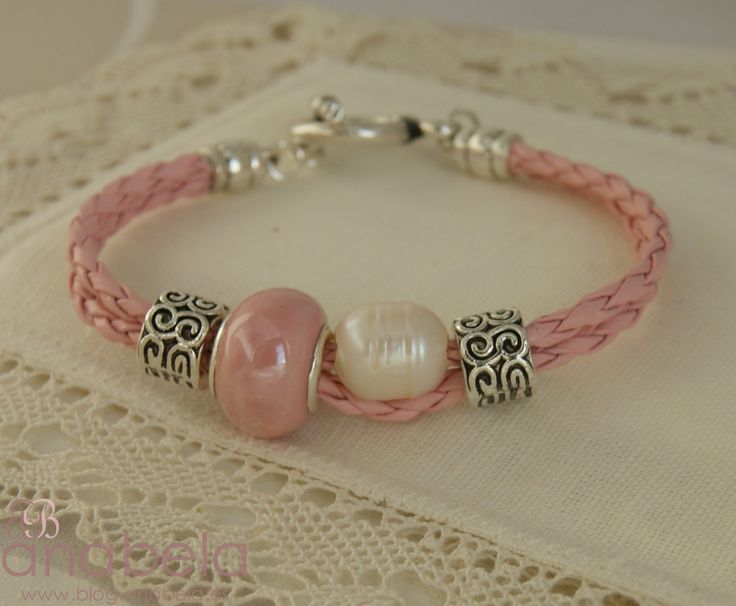cuero: (66, 111, 671, 425)
